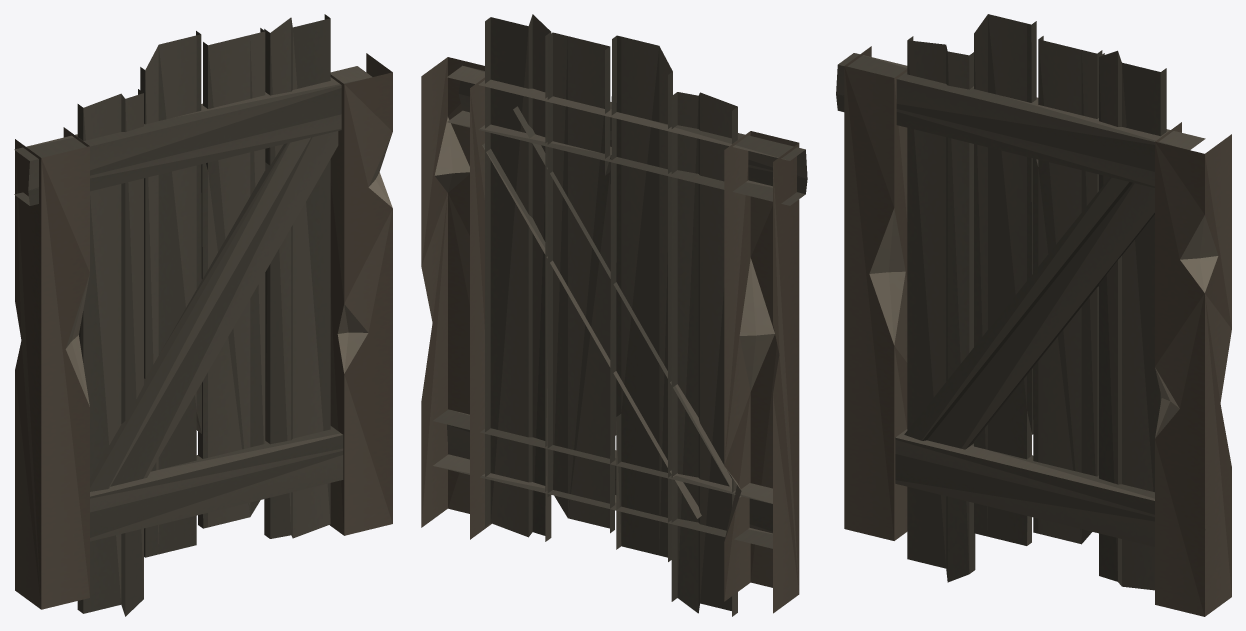
Rendered from Cave_Door_B.fbx.
3 views of the same model, side by side, from view 1: azimuth 30°, elevation 25°; view 2: azimuth 150°, elevation 25°; view 3: azimuth 330°, elevation 25° (orthographic). The views are drawn at different scales.
Visible parts, largest first — view 1: polySurface1229; view 2: polySurface1229; view 3: polySurface1229.
Part boxes in pixels (x1,y1,x2,y2): polySurface1229: (14, 14, 392, 616); polySurface1229: (421, 14, 807, 616); polySurface1229: (836, 14, 1231, 616).
Size of the model in its own units: 2.49 by 3.68 by 0.315.
